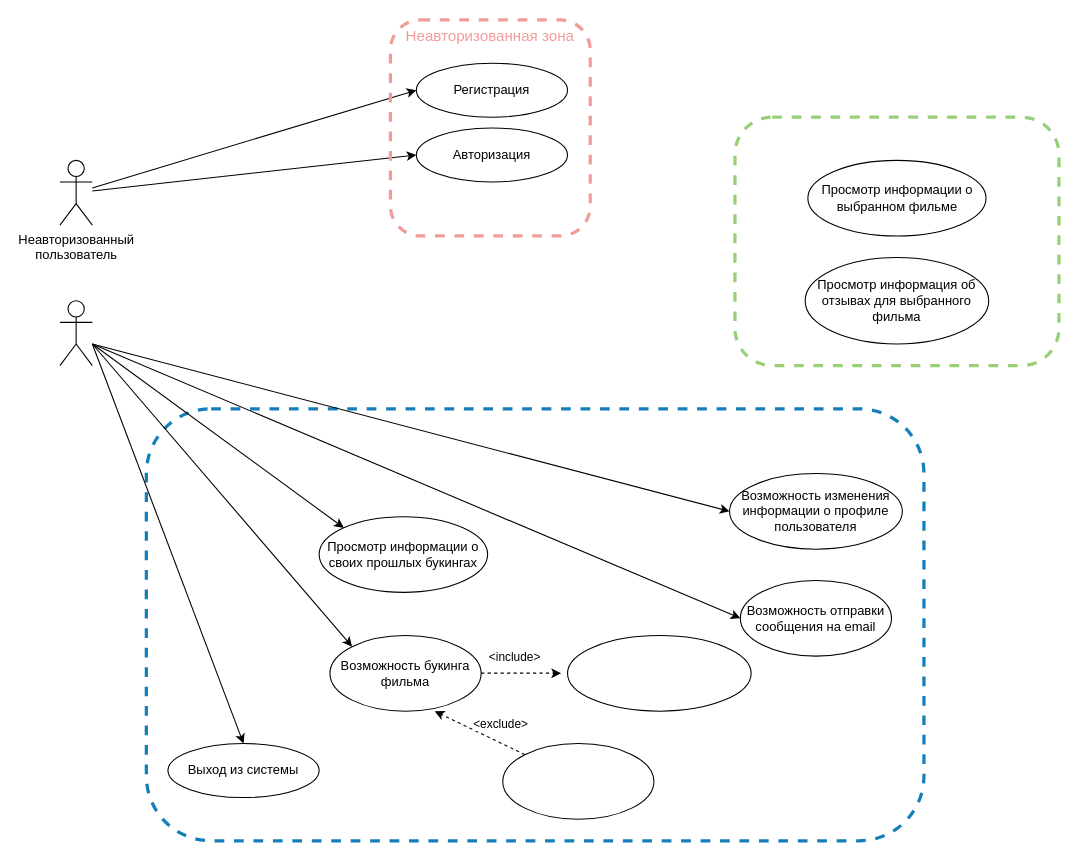
The diagram is 1079 pixels wide and 861 high, and some of its shapes have lost their labels. Here are the shapes that lost their labels. From the top down, the box of each, then its label:
(733, 115, 1060, 367): Общая для всех зона
(59, 300, 92, 366): Авторизованный пользователь
(144, 407, 925, 842): Авторизованная зона
(566, 634, 751, 711): Просмотр информации о доступных букингах для выбранного фильма
(502, 742, 654, 819): Возможность отменить букинг
